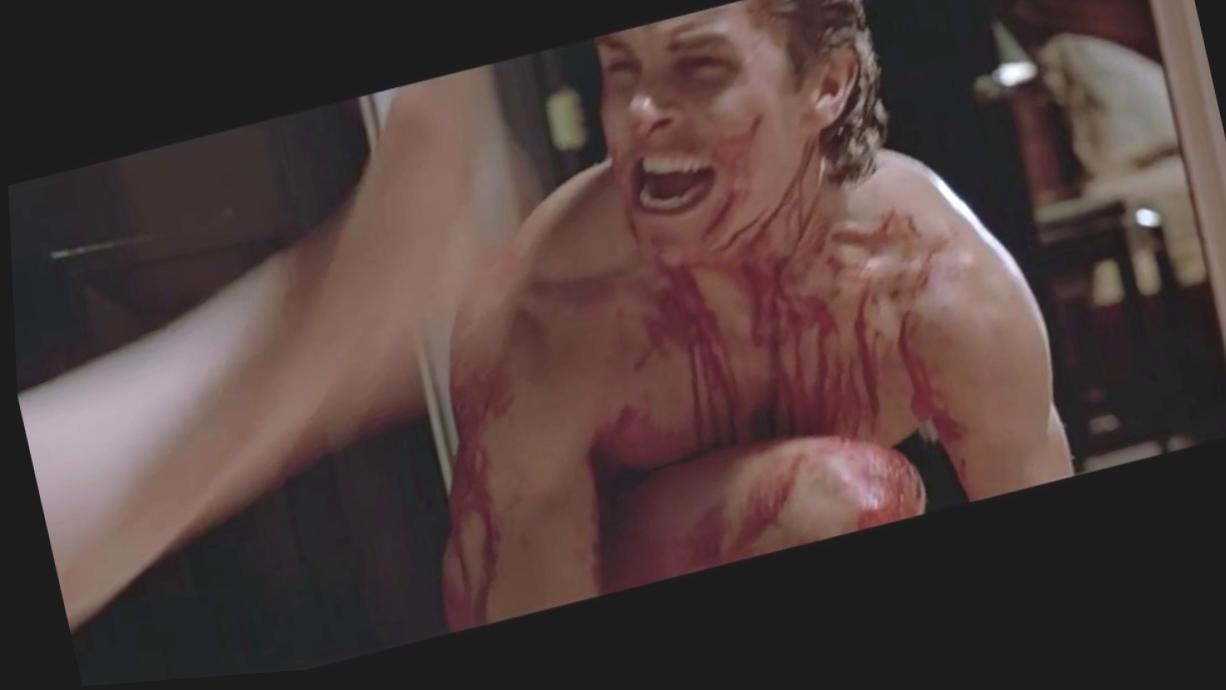Fire: (436, 240, 922, 634), (608, 106, 842, 278)
